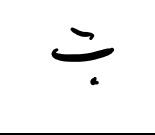div: (51, 27, 115, 85)
